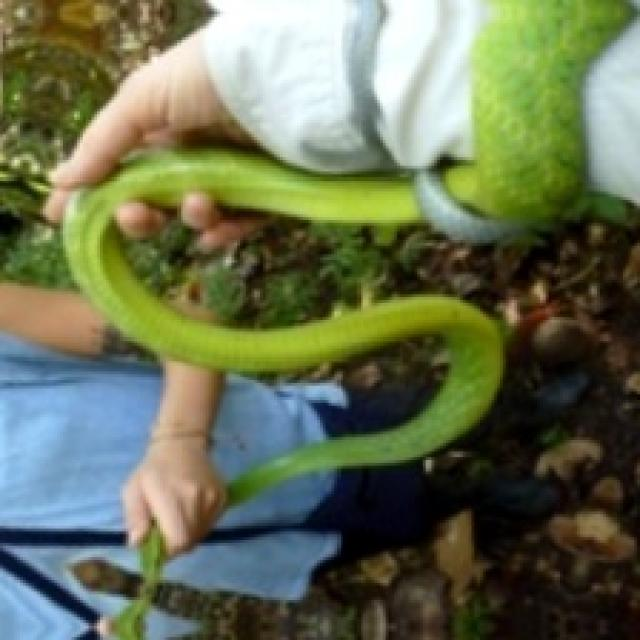red-tailed green ratsnake: (64, 149, 500, 507), (446, 0, 632, 222), (414, 169, 525, 244), (114, 524, 169, 640)
